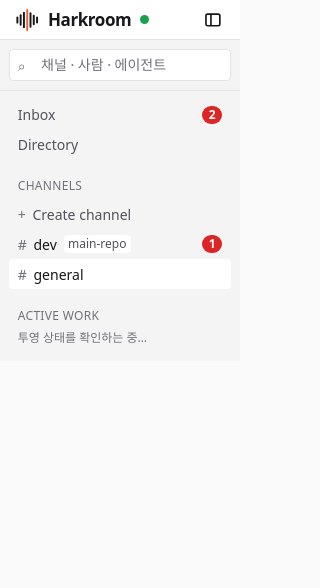
Scenario: Sidebar › 채널 편집 (admin 전용) › 성공하면 폼이 닫힌다
Right-click the button "# general".
right_click(120, 274)  # box [9,259,231,289]
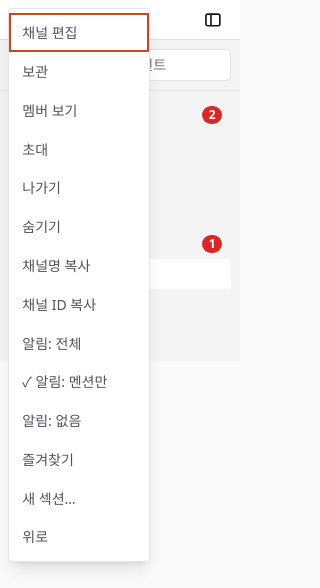
Click the menu item "채널 편집".
click(79, 33)  # box [9,13,149,52]
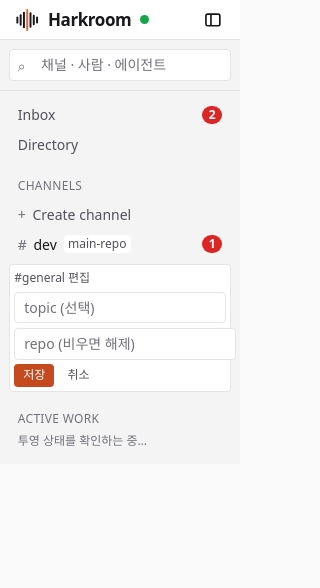
Type "new-repo" into the field named "Repository".
click(125, 344); type("new-repo")  # box [14,328,236,360]
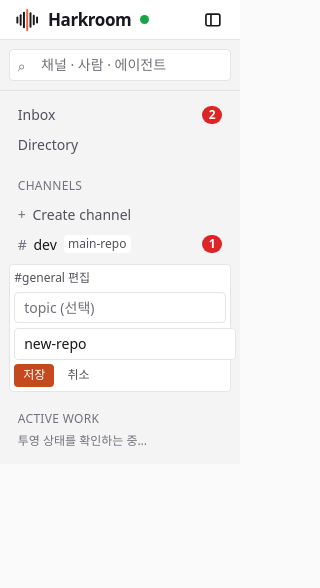
Click the button "저장".
click(34, 375)  # box [14,364,54,387]
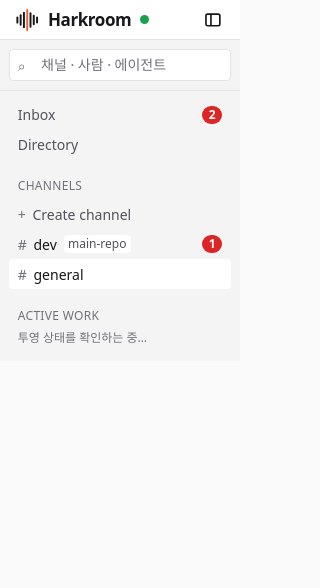
expect the text "#general 편집" is gone: met
